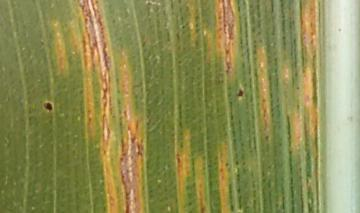tarspot: (41, 98, 55, 114), (236, 87, 245, 99)
